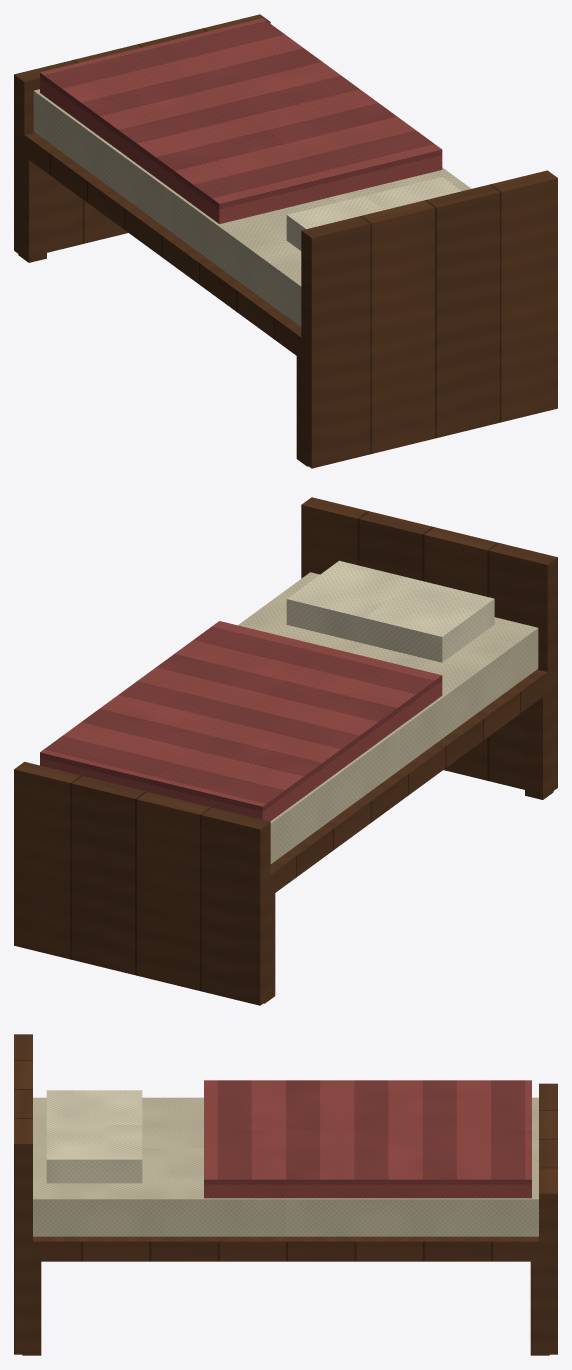
File: lozko.glb
The picture shows the model from 3 angles, top to bottom: view 1: azimuth 30°, elevation 25°; view 2: azimuth 150°, elevation 25°; view 3: azimuth 270°, elevation 25°; orthographic projection. The views are drawn at different scales.
Parts seen in each view (by area): view 1: lozko; view 2: lozko; view 3: lozko.
Part boxes in pixels (x1,y1,x2,y2): lozko: (14, 14, 557, 468); lozko: (14, 497, 557, 1005); lozko: (14, 1034, 557, 1355).
Bounding box in the file's own units: 0.95 × 0.855 × 1.99.
4 materials, 4 textured.
